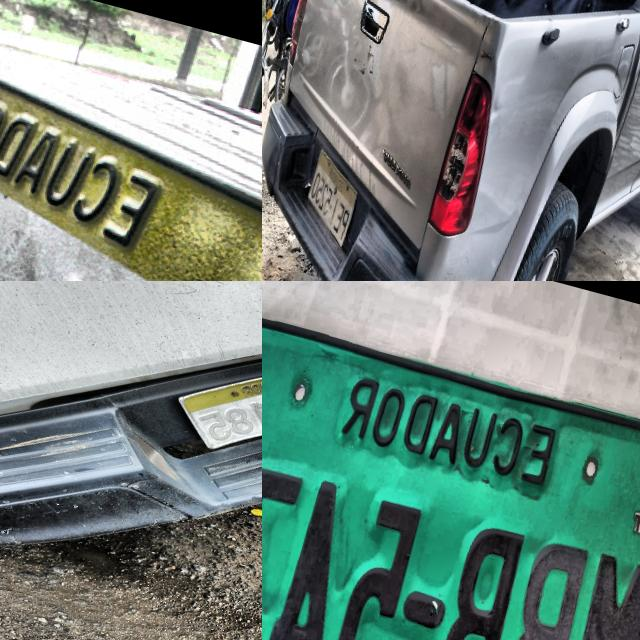license_plate: (262, 308, 640, 640), (0, 70, 262, 281), (171, 379, 262, 452), (306, 145, 360, 253)
